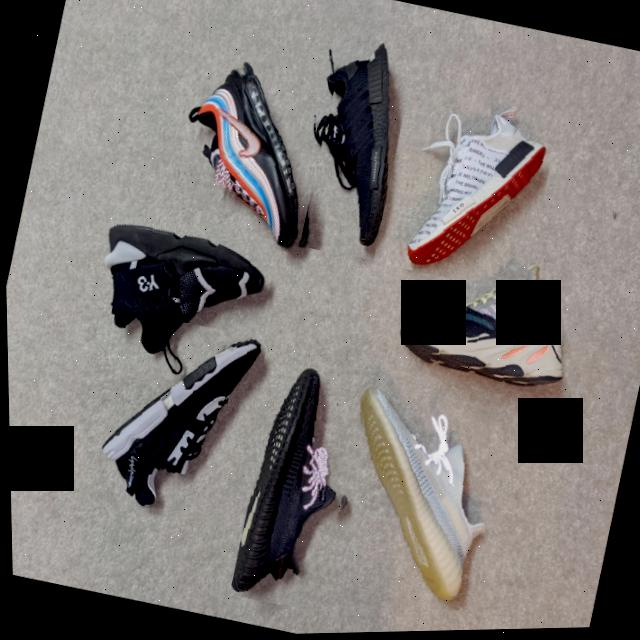shoe: (314, 375, 517, 619), (83, 308, 269, 533), (222, 354, 378, 618), (382, 76, 566, 298), (69, 204, 279, 398), (157, 44, 340, 258), (384, 234, 600, 413), (276, 26, 422, 266)
